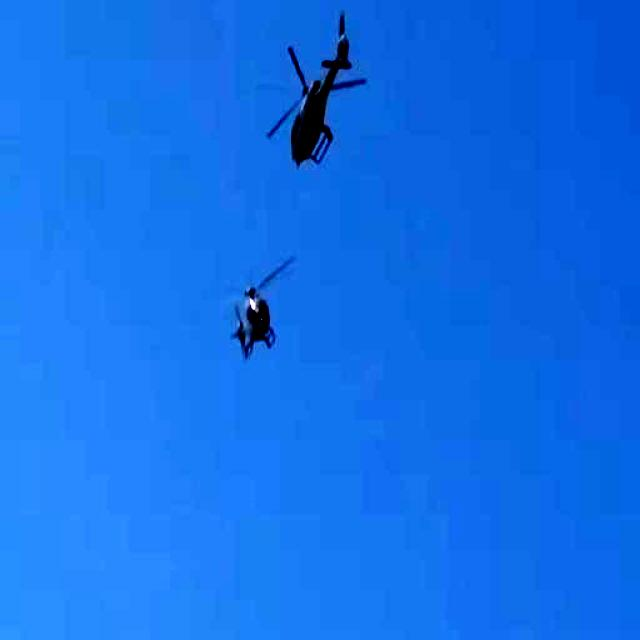drone: (275, 10, 362, 168), (224, 270, 289, 360)
